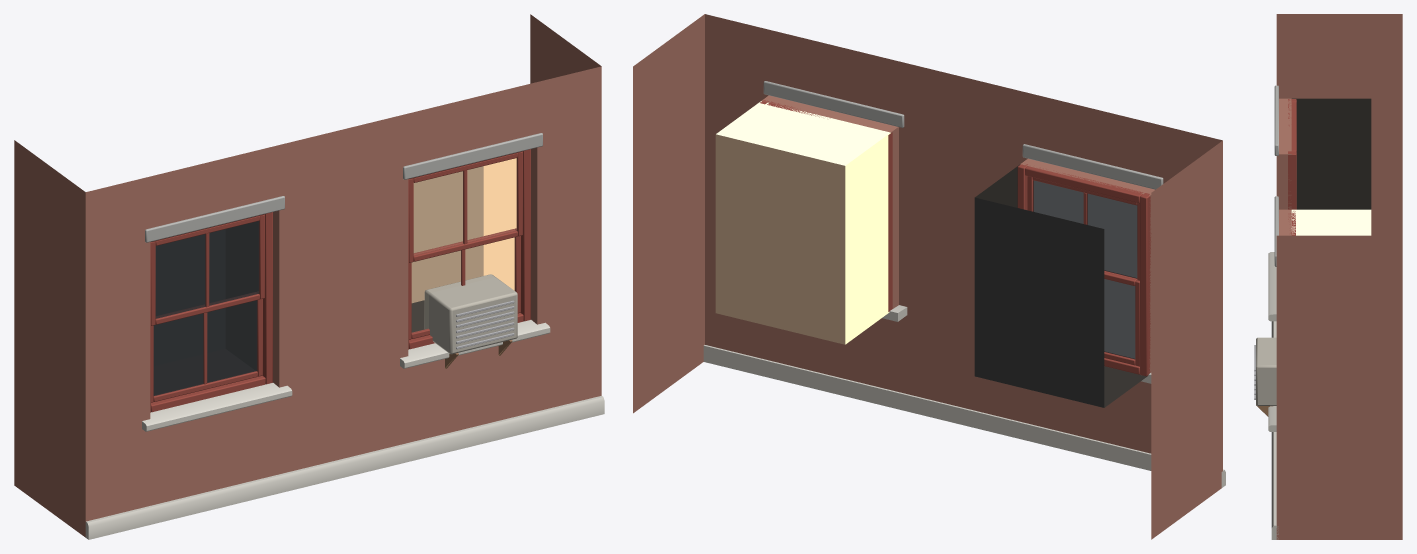
File: upper_5e.glb
3 views of the same model, side by side, from view 1: azimuth 30°, elevation 25°; view 2: azimuth 150°, elevation 25°; view 3: azimuth 270°, elevation 25° (orthographic). The views are drawn at different scales.
Parts seen in each view (by area): view 1: upper_5e; view 2: upper_5e; view 3: upper_5e.
Part boxes in pixels (x1,y1,x2,y2): upper_5e: (14,14,604,539); upper_5e: (633,14,1225,539); upper_5e: (1254,14,1402,539).
Bounding box in the file's own units: 5 × 3.2 × 1.42.
